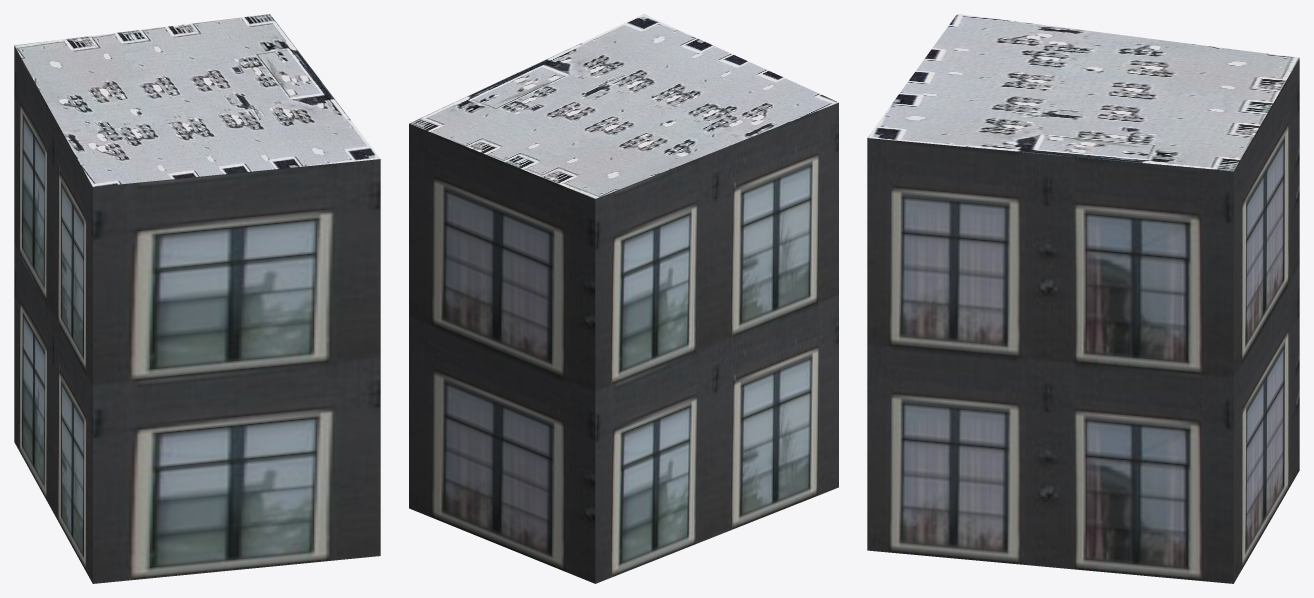
File: ResTex__2619.fbx
3 renders of one model, left to right at view 1: azimuth 30°, elevation 25°; view 2: azimuth 150°, elevation 25°; view 3: azimuth 270°, elevation 25°, orthographic. The views are drawn at different scales.
Parts seen in each view (by area): view 1: CityEngineMaterial_22_m, CityEngineMaterial_m; view 2: CityEngineMaterial_22_m, CityEngineMaterial_m; view 3: CityEngineMaterial_22_m, CityEngineMaterial_m.
Boxes of the visible parts, x1,y1,x2,y2 form: CityEngineMaterial_22_m: (14,46,380,583); CityEngineMaterial_m: (14,14,379,186); CityEngineMaterial_22_m: (409,102,838,583); CityEngineMaterial_m: (409,14,838,198); CityEngineMaterial_22_m: (867,58,1299,583); CityEngineMaterial_m: (867,14,1299,171).
Bounding box in the file's own units: 4.91 × 6 × 5.7.
2 materials, 2 textured.
